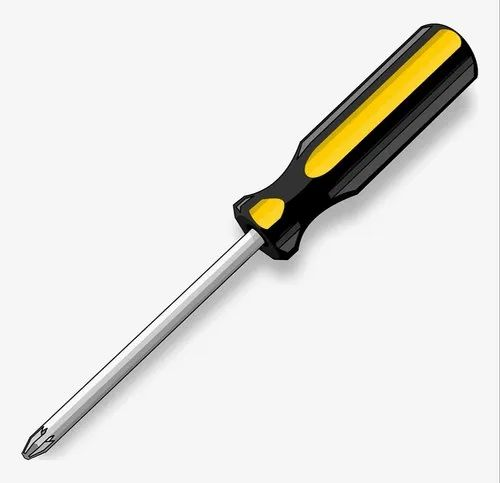screwdriver: (22, 20, 479, 462)
